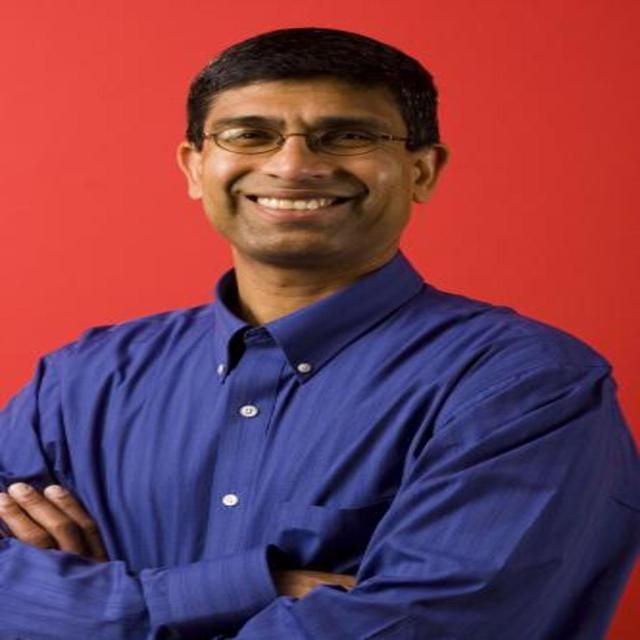Face: (179, 81, 422, 269)
